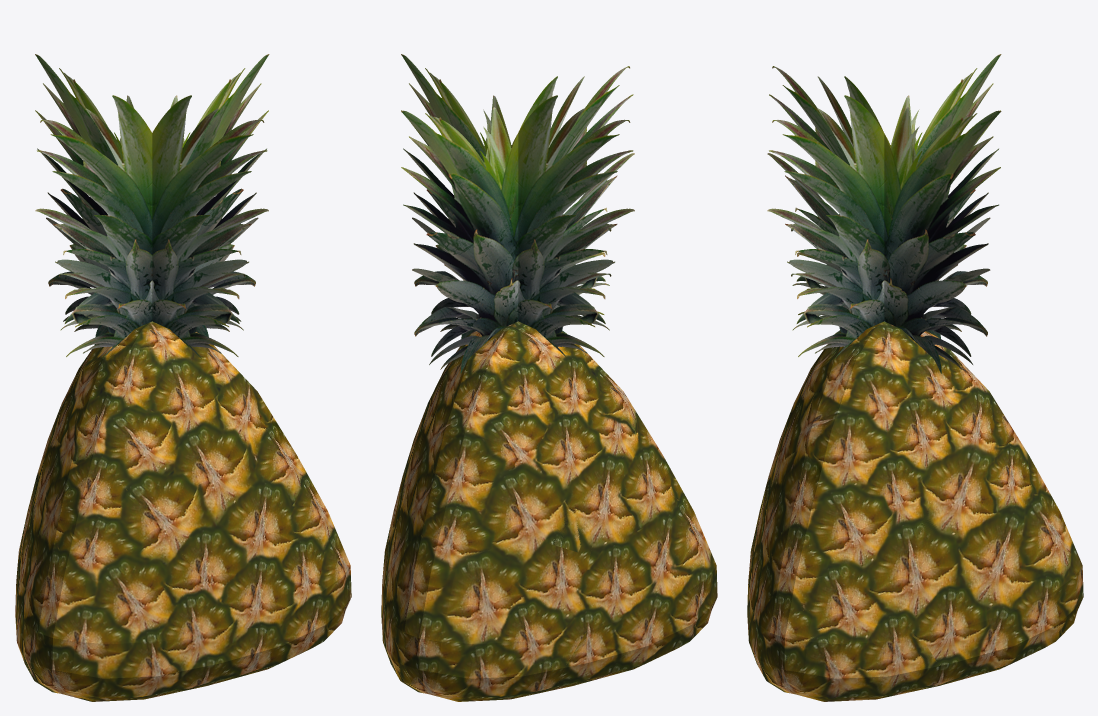
Rendered from TrPineapple.fbx.
3 views of the same model, side by side, from view 1: azimuth 30°, elevation 25°; view 2: azimuth 150°, elevation 25°; view 3: azimuth 270°, elevation 25° (orthographic).
Visible parts, largest first — view 1: TrPineapple, TrPineapple_leaf, TrPineapple_cell.002, TrPineapple_cell.001, TrPineapple_cell; view 2: TrPineapple, TrPineapple_leaf, TrPineapple_cell.003, TrPineapple_cell.002, TrPineapple_cell.001; view 3: TrPineapple, TrPineapple_leaf, TrPineapple_cell.003, TrPineapple_cell.001, TrPineapple_cell.
Part boxes in pixels (<box>): TrPineapple: <box>15,322,351,701</box>; TrPineapple_leaf: <box>35,54,269,358</box>; TrPineapple_cell.002: <box>17,453,220,693</box>; TrPineapple_cell.001: <box>75,321,339,587</box>; TrPineapple_cell: <box>218,543,351,682</box>; TrPineapple: <box>381,324,717,701</box>; TrPineapple_leaf: <box>401,54,634,373</box>; TrPineapple_cell.003: <box>382,400,580,701</box>; TrPineapple_cell.002: <box>550,418,714,690</box>; TrPineapple_cell.001: <box>408,321,636,457</box>; TrPineapple: <box>747,322,1083,701</box>; TrPineapple_leaf: <box>767,54,1001,373</box>; TrPineapple_cell.003: <box>917,380,1081,684</box>; TrPineapple_cell.001: <box>757,321,938,606</box>; TrPineapple_cell: <box>747,591,939,701</box>.
Size of the model in its own units: 11.58 by 20.87 by 11.08.
